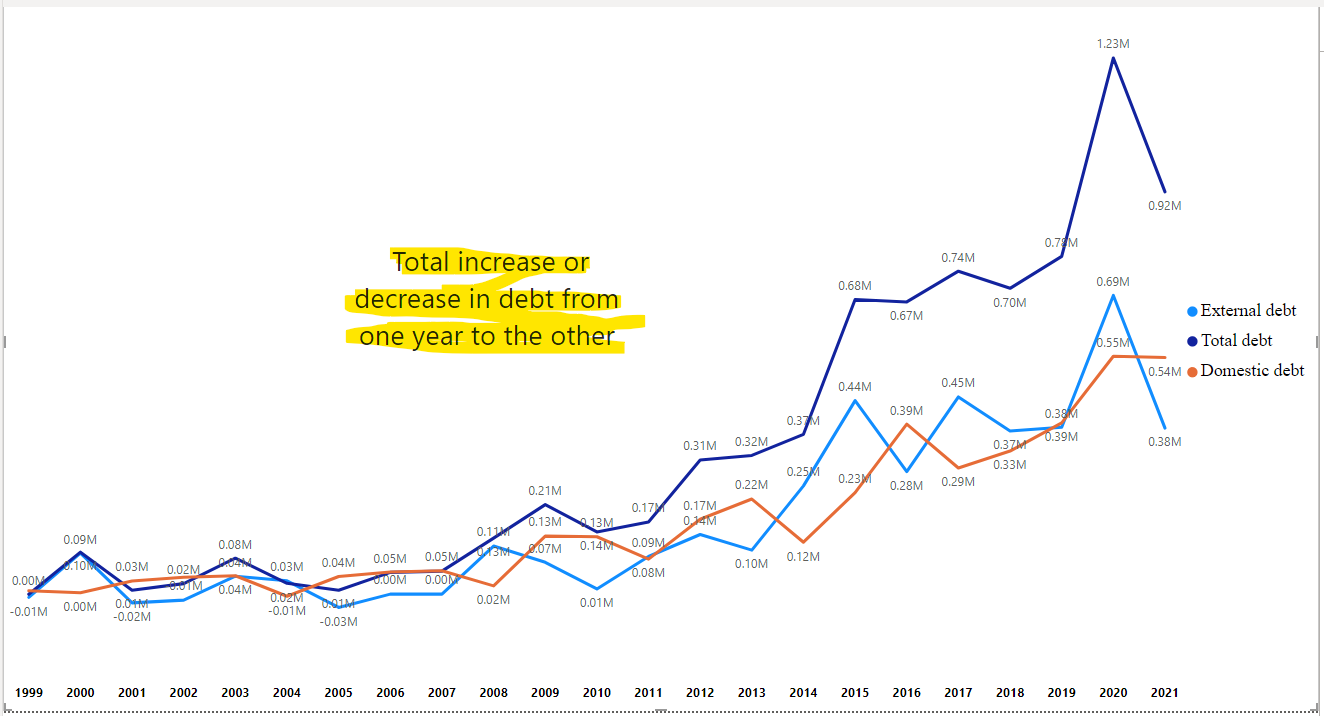

The dashboard page shown, as its layout file describes it:
{"tool":"powerbi","page":{"name":"Page 1","canvas":[1280,720],"ordinal":0},"visuals":[{"type":"lineChart","fields":{"Y":["Sum(External_debt.AMOUNT_Increase_decrese_EXTERNAL)","Sum(Total_debt.AMOUNT_Increase_decrese_TOTAL)","Sum(Domestic_debt.AMOUNT_Increase_decrese_DOMESTIC)"],"Category":["Date.Year"]},"box":[0,0,1280.3,720.2],"z":0},{"type":"textbox","box":[321.1,258,299.1,137.2],"z":1}]}

Visuals, with their boxes on the page's 1280x720 design canvas (x1, y1, x2, y2). These are canvas units, not pixel positions in the 1324x716 screenshot, which may show the page scaled, cropped or inside an application window:
lineChart - Sum(External_debt.AMOUNT_Increase_decrese_EXTERNAL) x Sum(Total_debt.AMOUNT_Increase_decrese_TOTAL): x1=0 y1=0 x2=1280 y2=720
textbox: x1=321 y1=258 x2=620 y2=395
